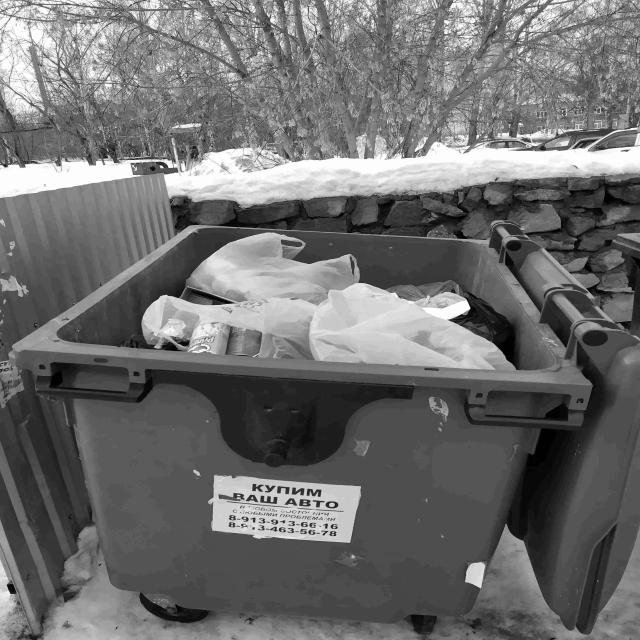Trashcan: (32, 149, 640, 640)
